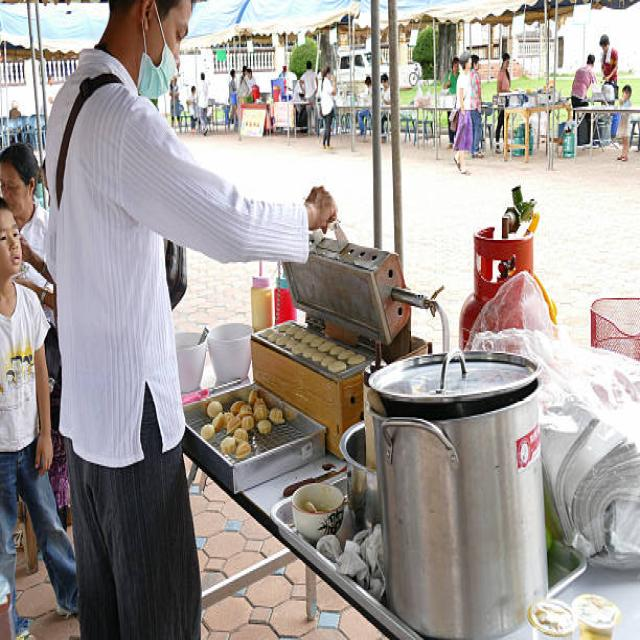Emperan: (82, 100, 631, 640)
